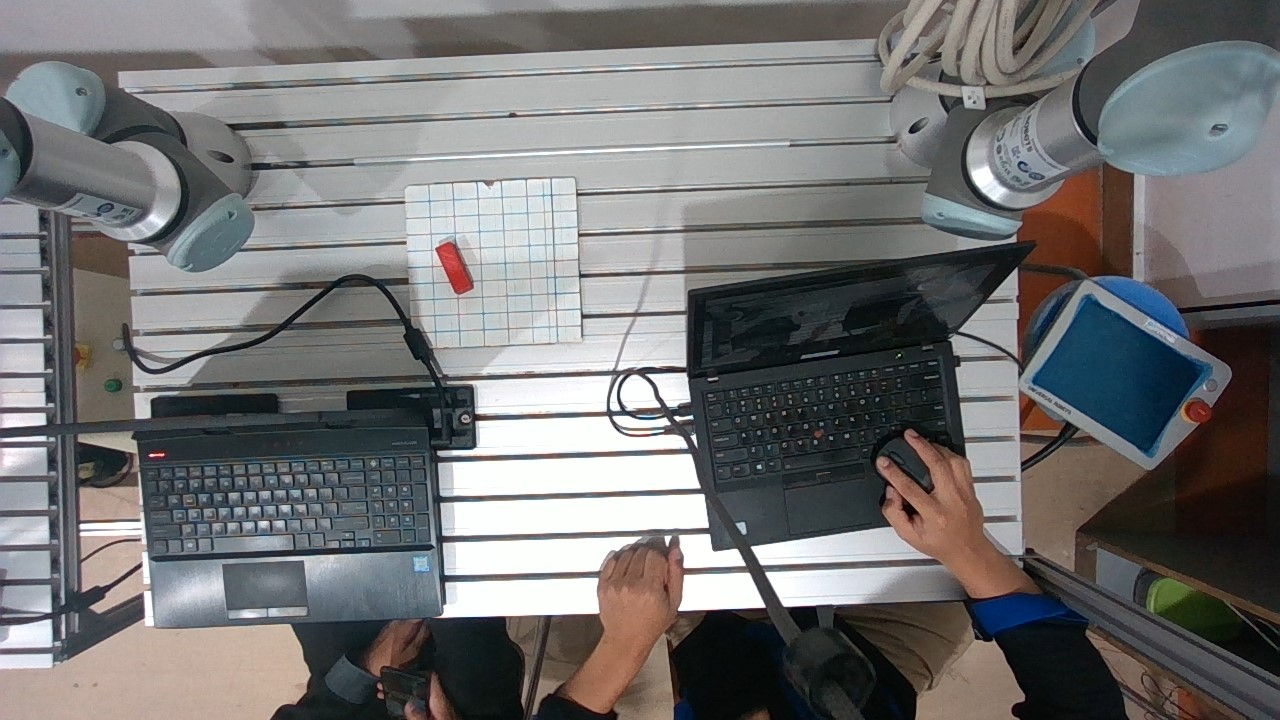box: (426, 226, 483, 305)
